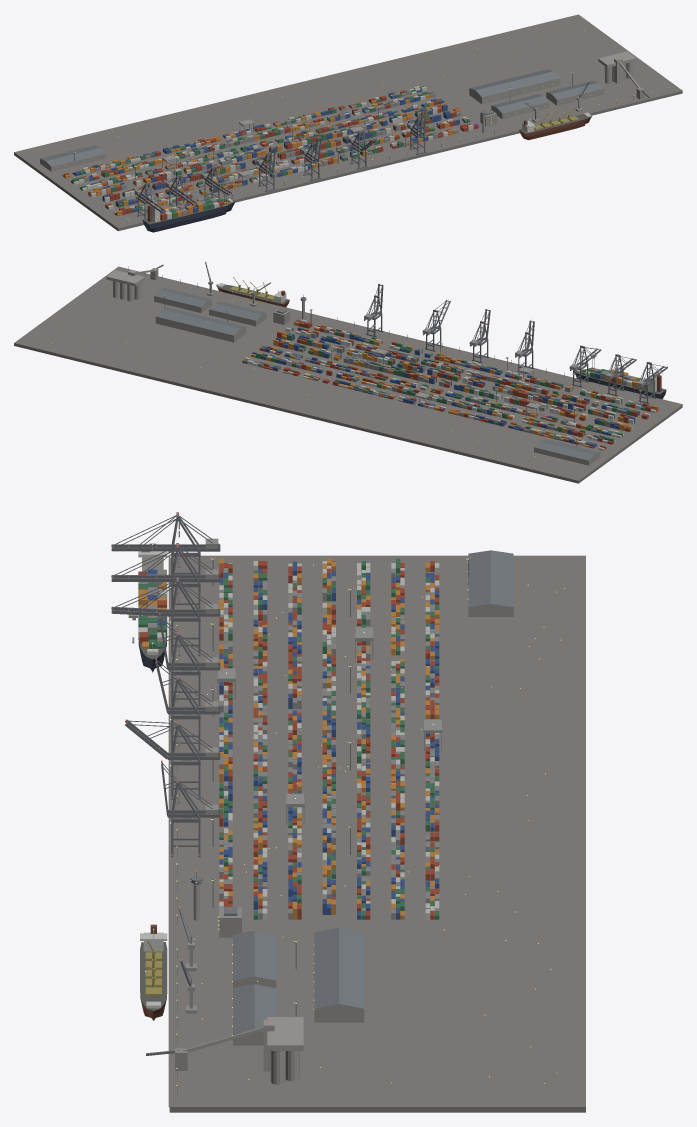
Rendered from harbour.glb.
3 renders of one model, top to bottom at view 1: azimuth 30°, elevation 25°; view 2: azimuth 150°, elevation 25°; view 3: azimuth 270°, elevation 25°, orthographic. The views are drawn at different scales.
Parts seen in each view (by area): view 1: harbour_quay, container_yard, harbour_buildings, moored_ships, crane_03, crane_05, crane_04, crane_07, crane_01, crane_06, crane_02, yard_gantries; view 2: harbour_quay, container_yard, harbour_buildings, moored_ships, crane_03, crane_06, crane_05, crane_07, crane_02, crane_01, crane_04, yard_gantries (+1 smaller); view 3: harbour_quay, container_yard, harbour_buildings, moored_ships, crane_03, crane_06, crane_02, crane_01, crane_07, crane_05, crane_04, yard_gantries (+1 smaller).
Boxes of the visible parts, x1,y1,x2,y2 form: harbour_quay: [14, 14, 682, 231]; container_yard: [62, 86, 478, 216]; harbour_buildings: [40, 51, 649, 171]; moored_ships: [142, 107, 592, 232]; crane_03: [201, 166, 232, 206]; crane_05: [301, 137, 321, 180]; crane_04: [256, 147, 275, 191]; crane_07: [407, 110, 426, 154]; crane_01: [134, 182, 165, 218]; crane_06: [348, 130, 376, 169]; crane_02: [166, 175, 197, 207]; yard_gantries: [162, 119, 364, 185]; harbour_quay: [14, 266, 682, 483]; container_yard: [242, 319, 658, 450]; harbour_buildings: [106, 262, 600, 465]; moored_ships: [216, 277, 666, 399]; crane_03: [569, 345, 601, 387]; crane_06: [422, 299, 450, 351]; crane_05: [469, 309, 490, 362]; crane_07: [364, 284, 383, 337]; crane_02: [605, 354, 636, 395]; crane_01: [636, 362, 667, 403]; crane_04: [515, 320, 534, 373]; yard_gantries: [373, 348, 541, 418]; harbour_quay: [168, 555, 585, 1112]; container_yard: [219, 558, 439, 919]; harbour_buildings: [146, 550, 513, 1084]; moored_ships: [138, 543, 167, 1020]; crane_03: [111, 577, 220, 656]; crane_06: [125, 719, 220, 799]; crane_02: [111, 543, 220, 609]; crane_01: [111, 512, 220, 590]; crane_07: [161, 761, 220, 857]; crane_05: [155, 658, 220, 752]; crane_04: [159, 614, 220, 706]; yard_gantries: [217, 627, 442, 824].
Bounding box in the file's own units: 1440 × 126 × 525.
